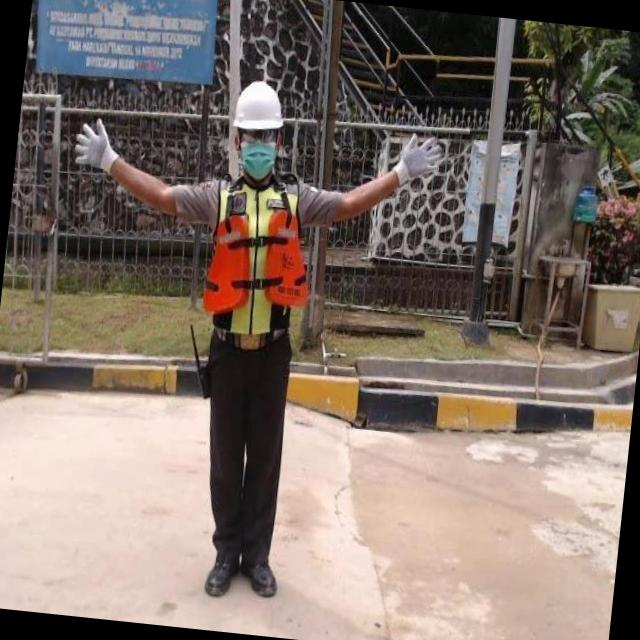hard_hat: (232, 77, 288, 132)
safety_vest: (198, 174, 320, 338)
vehicle: (12, 35, 496, 638)
work_boots: (235, 556, 282, 600), (202, 546, 240, 600)
